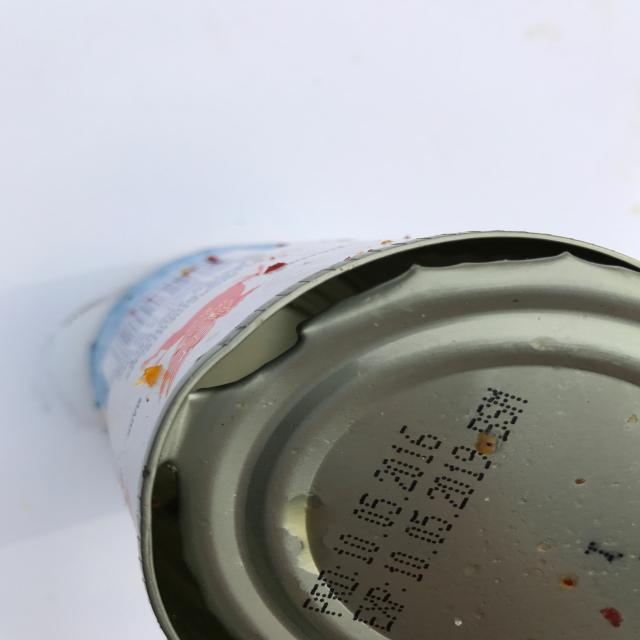metal: (88, 229, 640, 640)
